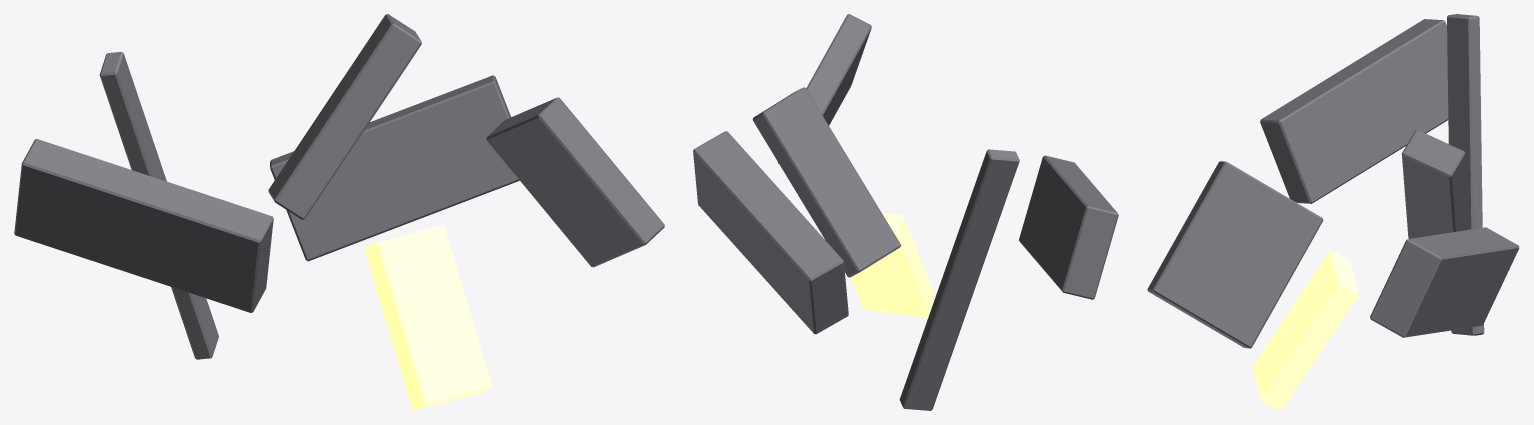
Rendered from SM_ArchDebris_A.fbx.
The picture shows the model from 3 angles, left to right: view 1: azimuth 30°, elevation 25°; view 2: azimuth 150°, elevation 25°; view 3: azimuth 270°, elevation 25°; orthographic projection. The views are drawn at different scales.
Visible parts, largest first — view 1: SM_ArchDebris_A; view 2: SM_ArchDebris_A; view 3: SM_ArchDebris_A.
Part boxes in pixels (bbox=[...]): SM_ArchDebris_A: bbox=[14, 14, 664, 410]; SM_ArchDebris_A: bbox=[693, 14, 1118, 410]; SM_ArchDebris_A: bbox=[1147, 14, 1519, 410].
Bounding box in the file's own units: 172 × 107 × 127.
